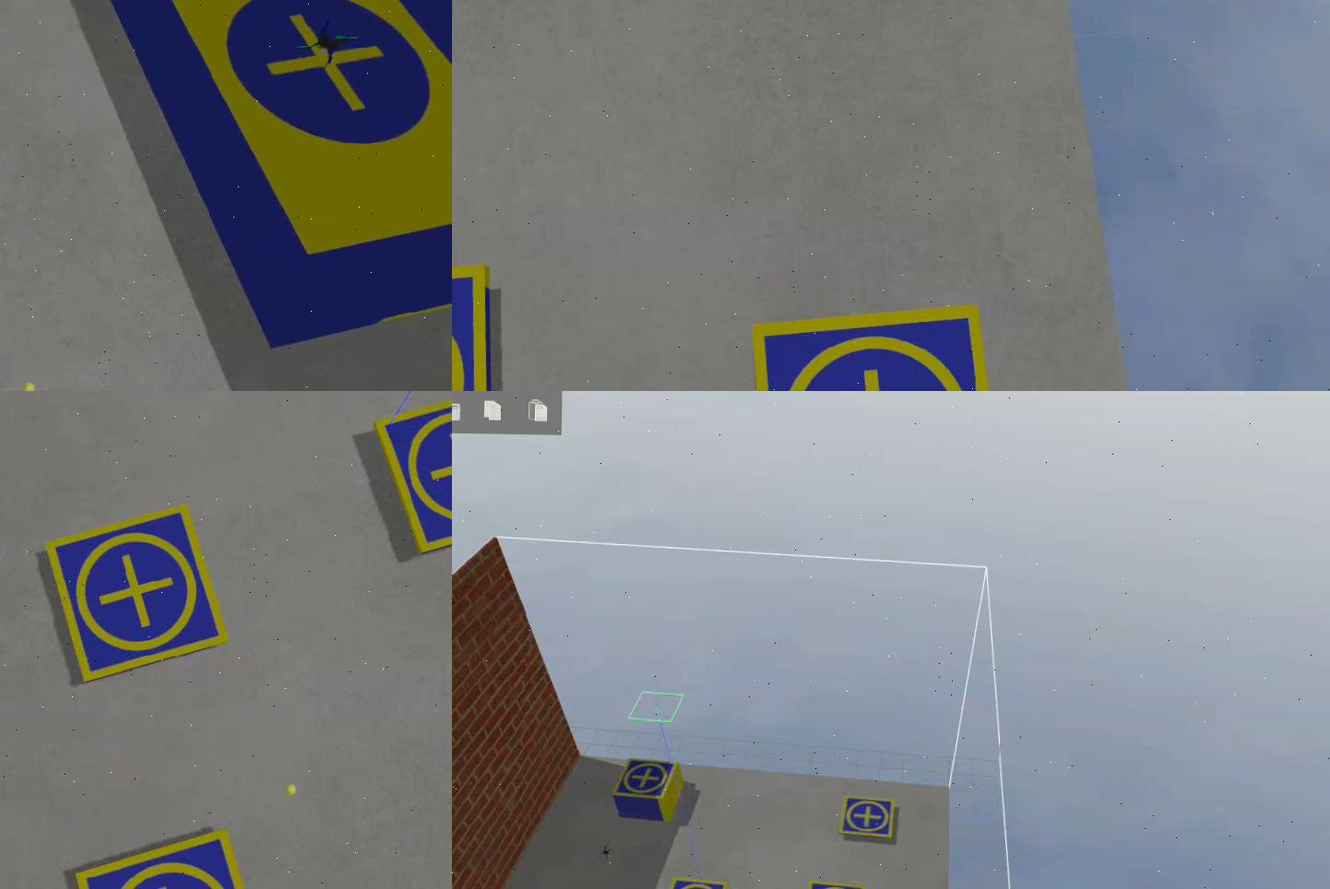large_base: (74, 1, 453, 359)
small_base: (43, 507, 239, 683), (751, 302, 1013, 392), (68, 829, 277, 889), (378, 392, 453, 555), (614, 758, 680, 797), (840, 795, 897, 840), (659, 877, 729, 889)
